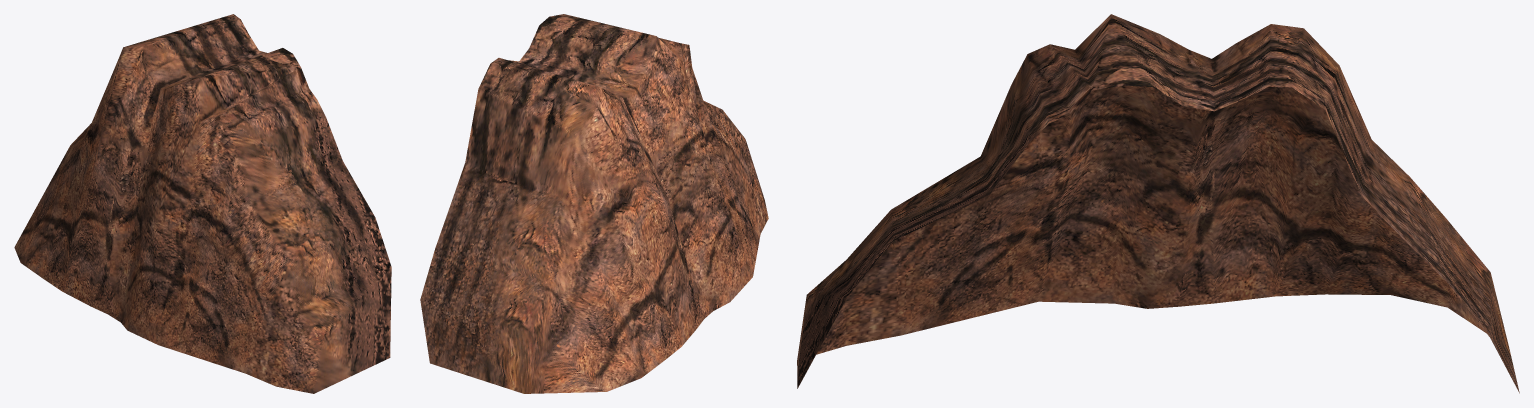
Rendered from object_122.005_lev2.glb.
The picture shows the model from 3 angles, left to right: view 1: azimuth 30°, elevation 25°; view 2: azimuth 150°, elevation 25°; view 3: azimuth 270°, elevation 25°; orthographic projection. The views are drawn at different scales.
Parts seen in each view (by area): view 1: object_122.005_lev2; view 2: object_122.005_lev2; view 3: object_122.005_lev2.
Boxes of the visible parts, x1=… form: object_122.005_lev2: x1=14, y1=14, x2=391, y2=393; object_122.005_lev2: x1=420, y1=14, x2=768, y2=393; object_122.005_lev2: x1=797, y1=14, x2=1519, y2=393.
Size of the model in its own units: 12.31 by 15.19 by 29.02.
Materials: 1 (1 with a texture image).
